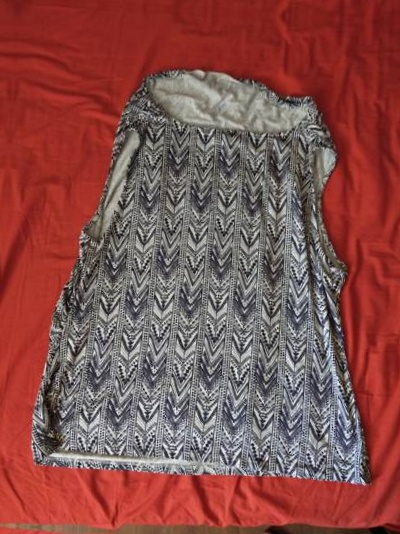Dress: (23, 42, 400, 509)
